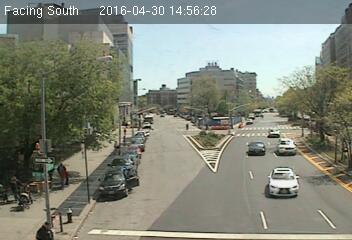neg: (87, 181, 119, 224), (233, 183, 260, 220), (185, 44, 210, 76), (262, 32, 286, 65), (126, 32, 150, 63), (78, 67, 101, 98), (196, 144, 217, 173), (22, 136, 43, 164), (260, 143, 281, 171), (304, 81, 324, 108), (164, 184, 184, 210), (59, 23, 79, 49), (239, 71, 258, 98), (31, 80, 50, 105), (150, 132, 168, 156), (157, 76, 174, 98), (212, 72, 228, 94), (129, 133, 145, 154), (281, 119, 297, 140), (64, 206, 77, 223), (295, 178, 306, 193)
pos: (52, 160, 72, 187), (7, 173, 24, 195), (36, 216, 51, 237)
